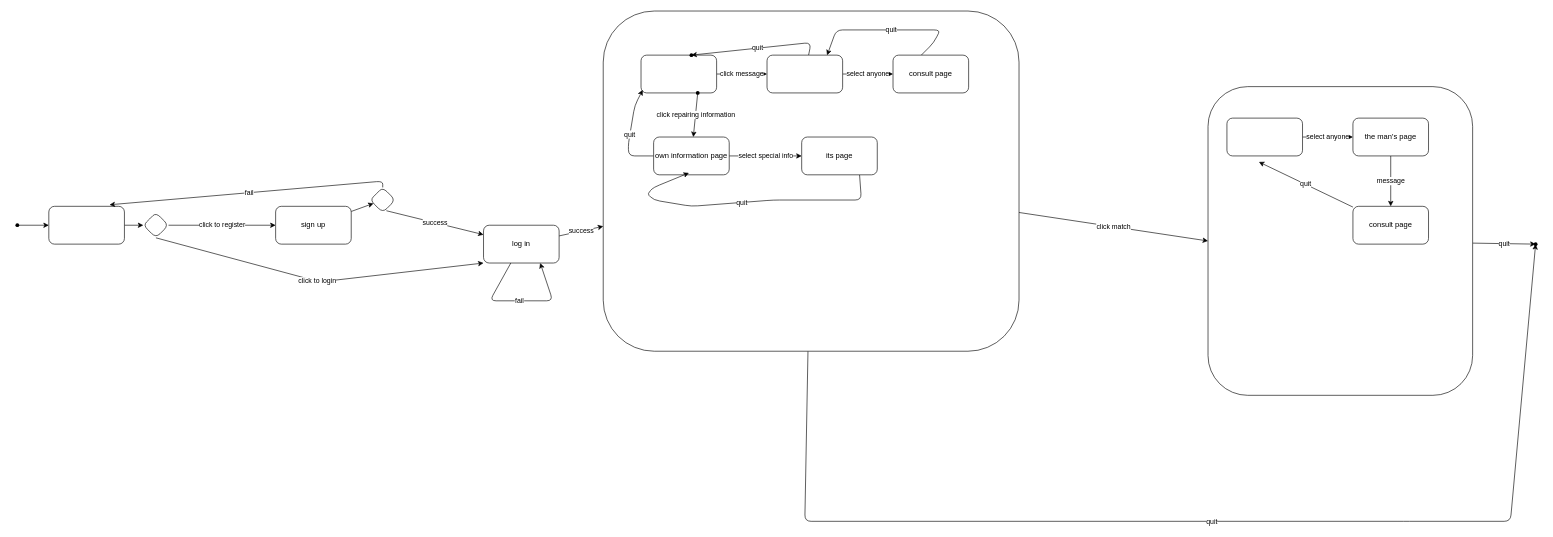
This 1553x537 diagram has some shape labels left out. The box of each missing label's shape, as (x1, y1, x2, y2) in pixels:
homepage: (640, 54, 717, 93)
marching information page: (1226, 117, 1303, 156)
message list: (766, 54, 843, 93)
not logged in: (48, 206, 124, 244)
